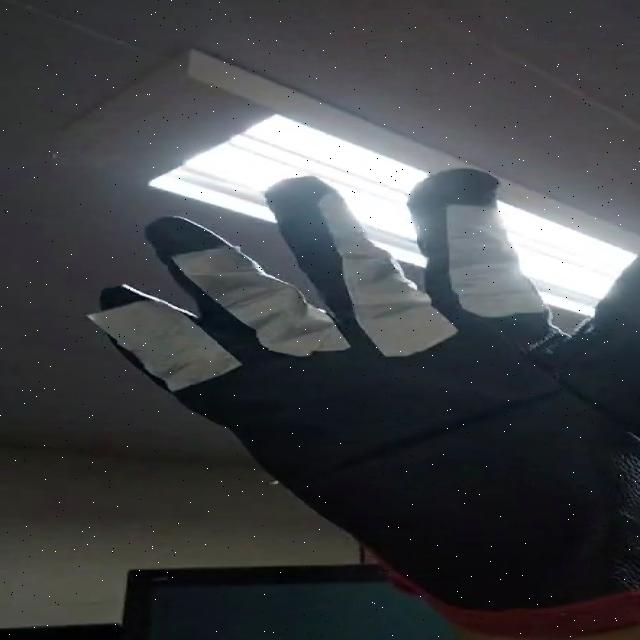Gloves: (84, 159, 640, 621)
